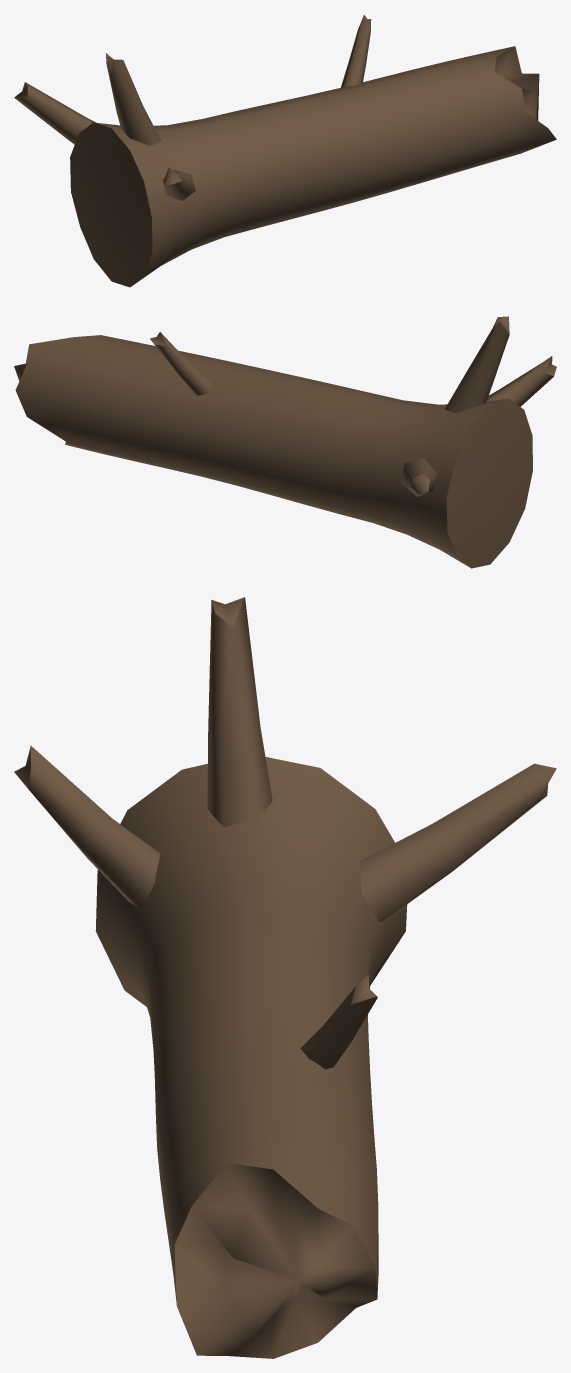
Rendered from log_fallen_b.glb.
3 views of the same model, one above another, from view 1: azimuth 30°, elevation 25°; view 2: azimuth 150°, elevation 25°; view 3: azimuth 270°, elevation 25° (orthographic). The views are drawn at different scales.
Parts seen in each view (by area): view 1: log_fallen_b_lod0; view 2: log_fallen_b_lod0; view 3: log_fallen_b_lod0.
Part boxes in pixels (<box>): log_fallen_b_lod0: <box>14,15,556,287</box>; log_fallen_b_lod0: <box>14,316,556,568</box>; log_fallen_b_lod0: <box>14,597,556,1358</box>.
Size of what is drawn, in the model's own units: 2.4 by 1.16 by 1.29.
